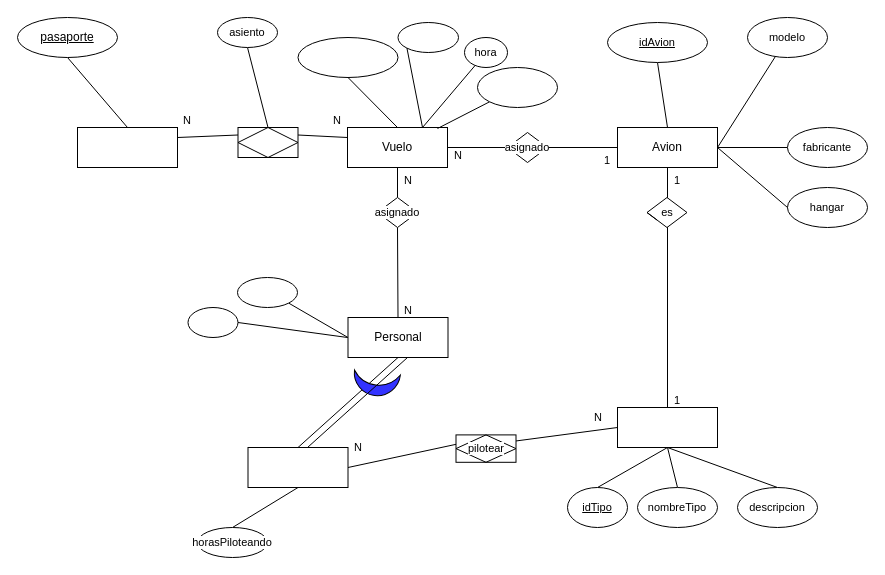
Image size: 885x575. Some labels were removed from this diagram. The centre of each missing label's shape, as x and y in pixels:
apellido: [212,322]
ciudadEscala: [517,87]
compra: [267,142]
fecha: [427,37]
nombre: [267,292]
nroVuelo: [347,57]
Pasajero: [127,147]
Piloto: [297,467]
TipoAvion: [667,427]
